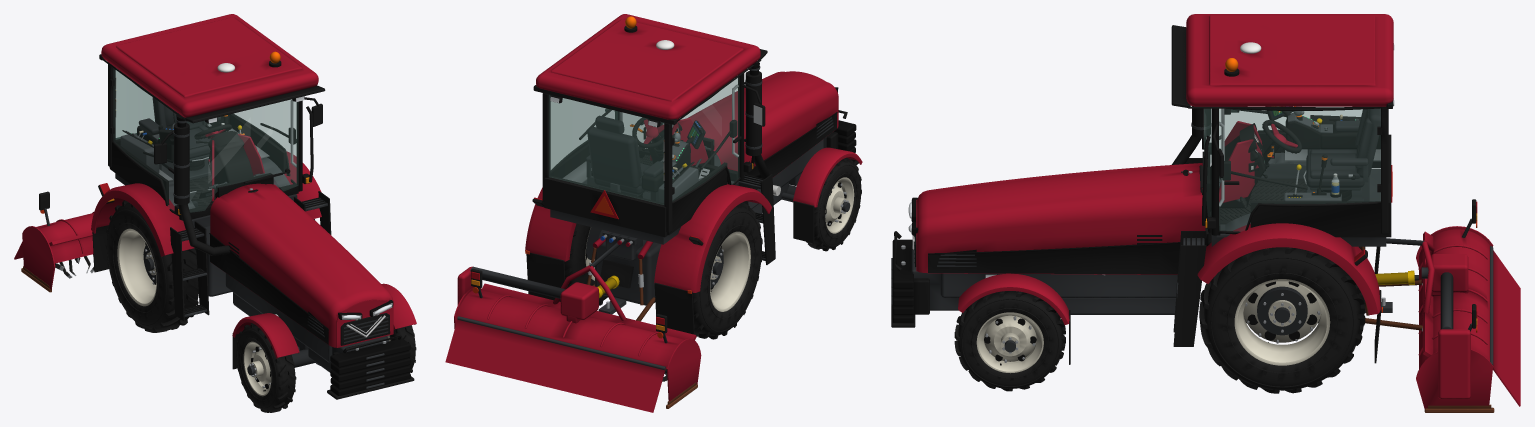
Rendered from tractor_yt.glb.
3 renders of one model, left to right at view 1: azimuth 30°, elevation 25°; view 2: azimuth 150°, elevation 25°; view 3: azimuth 270°, elevation 25°, orthographic. The views are drawn at different scales.
Parts seen in each view (by area): view 1: Body, Glass, Interior, WheelRR, Rotary, WheelFR, SteerFR, SteerFL, WheelFL; view 2: Body, Glass, Rotary, Flap, Interior, WheelRR, WheelFR, SteerFR, WheelRL, SteeringWheel; view 3: Body, WheelRL, Glass, Rotary, Interior, WheelFL, Flap, SteerFL, SteeringWheel.
Boxes of the visible parts, left/top/right/bottom form: Body: left=91, top=14, right=414, bottom=399; Glass: left=113, top=69, right=298, bottom=212; Interior: left=115, top=78, right=296, bottom=220; WheelRR: left=105, top=200, right=198, bottom=332; Rotary: left=21, top=191, right=93, bottom=292; WheelFR: left=236, top=323, right=296, bottom=412; SteerFR: left=232, top=313, right=299, bottom=369; SteerFL: left=381, top=283, right=416, bottom=338; WheelFL: left=387, top=325, right=416, bottom=372; Body: left=525, top=14, right=858, bottom=334; Glass: left=549, top=77, right=739, bottom=204; Rotary: left=454, top=241, right=701, bottom=408; Flap: left=445, top=316, right=666, bottom=412; Interior: left=563, top=84, right=738, bottom=202; WheelRR: left=692, top=202, right=762, bottom=339; WheelFR: left=806, top=157, right=861, bottom=251; SteerFR: left=793, top=147, right=862, bottom=243; WheelRL: left=564, top=223, right=607, bottom=305; SteeringWheel: left=632, top=117, right=664, bottom=148; Body: left=891, top=14, right=1394, bottom=363; WheelRL: left=1199, top=247, right=1365, bottom=393; Glass: left=1204, top=108, right=1380, bottom=231; Rotary: left=1365, top=199, right=1494, bottom=412; Interior: left=1210, top=106, right=1380, bottom=237; WheelFL: left=954, top=291, right=1065, bottom=391; Flap: left=1490, top=246, right=1520, bottom=406; SteerFL: left=958, top=273, right=1070, bottom=364; SteeringWheel: left=1262, top=120, right=1301, bottom=153.
Bounding box in the file's own units: 2.35 × 2.79 × 4.97.
Materials: 38 (2 with a texture image).
